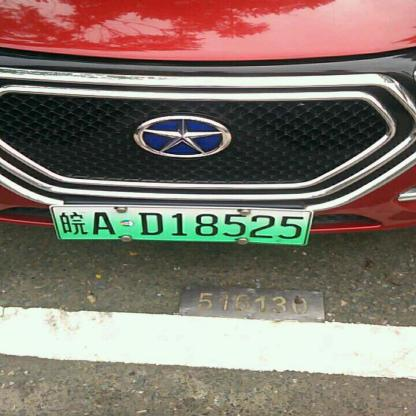lp: (51, 206, 62, 243)
